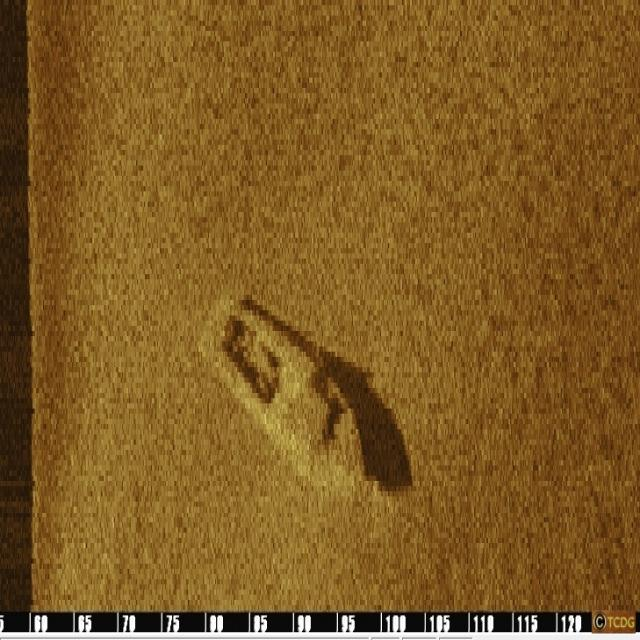ship: (198, 290, 370, 499)
